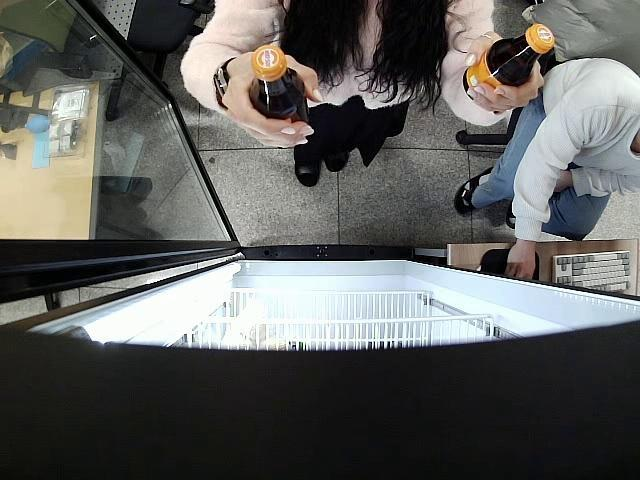17_vita500: (461, 22, 554, 107), (248, 44, 312, 131)
